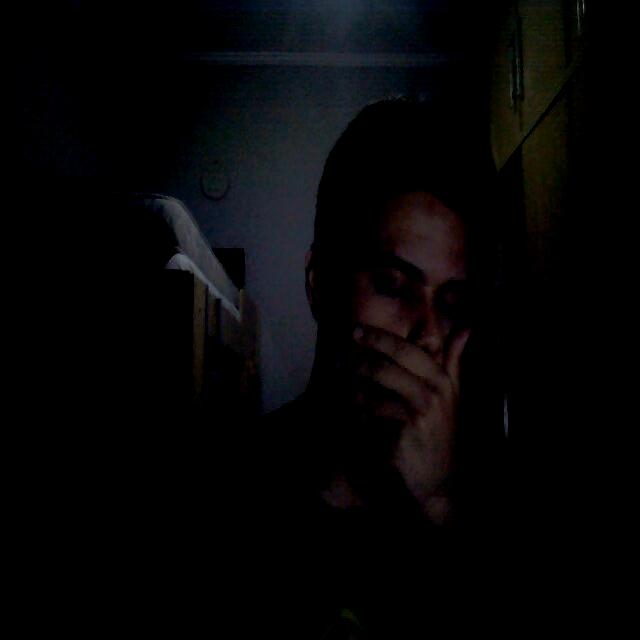sonolento: (304, 222, 484, 528)
